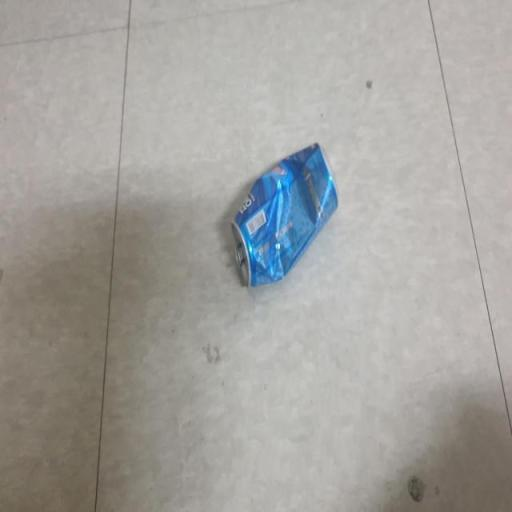metal: (224, 133, 341, 303)
